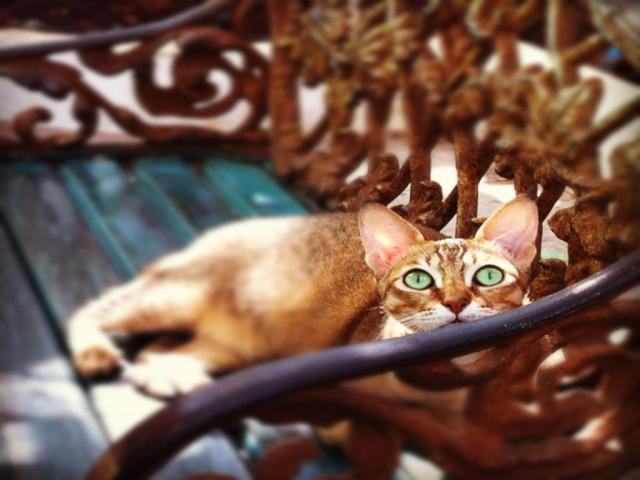Cat: (65, 192, 540, 414)
